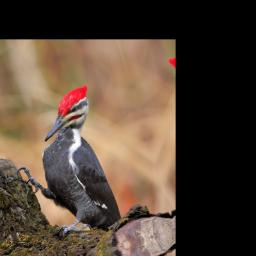Woodpecker: (0, 84, 129, 252)
